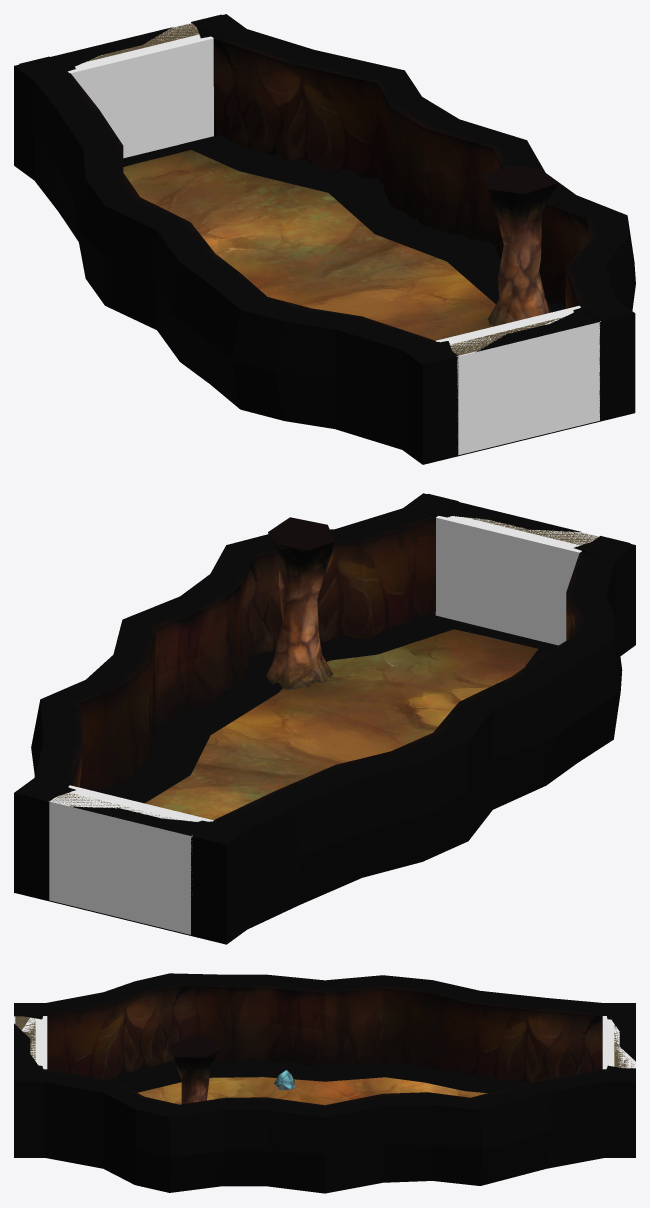
Rendered from Dungeon_011_Road_002_Item.fbx.
3 renders of one model, top to bottom at view 1: azimuth 30°, elevation 25°; view 2: azimuth 150°, elevation 25°; view 3: azimuth 270°, elevation 25°, orthographic. The views are drawn at different scales.
Parts seen in each view (by area): view 1: Dan1, Dan2, DoorWay_NavMask (1) (×2), Dan1_shadow, Dungeon_011_Object_010, Dun_011_Door_002_old (×2), Dun_011_Door_003_WarpRoom (×2); view 2: Dan1, DoorWay_NavMask (1) (×2), Dan2, Dan1_shadow, Dungeon_011_Object_010, Dun_011_Door_002_old (×2), Dun_011_Door_003_WarpRoom, Dun_011_Door_002, Dun_011_Door_002_shadow; view 3: Dan1, Dan1_shadow, Dan2, Dun_011_Door_002_old (×2), Dungeon_011_Object_010, DoorWay_NavMask (1) (×2), Dun_011_Door_003_WarpRoom (×2), Dun_011_Door_002.
Part boxes in pixels (x1=…): Dan1: x1=14, y1=14, x2=635, y2=464; Dan2: x1=123, y1=150, x2=500, y2=340; DoorWay_NavMask (1) (×2): x1=68, y1=22, x2=600, y2=455; Dan1_shadow: x1=180, y1=135, x2=565, y2=312; Dungeon_011_Object_010: x1=482, y1=166, x2=557, y2=326; Dun_011_Door_002_old (×2): x1=19, y1=14, x2=630, y2=412; Dun_011_Door_003_WarpRoom (×2): x1=85, y1=23, x2=563, y2=355; Dan1: x1=14, y1=493, x2=635, y2=944; DoorWay_NavMask (1) (×2): x1=48, y1=516, x2=599, y2=934; Dan2: x1=145, y1=629, x2=538, y2=820; Dan1_shadow: x1=93, y1=613, x2=558, y2=803; Dungeon_011_Object_010: x1=265, y1=517, x2=334, y2=689; Dun_011_Door_002_old (×2): x1=19, y1=494, x2=630, y2=934; Dun_011_Door_003_WarpRoom: x1=467, y1=517, x2=598, y2=545; Dun_011_Door_002: x1=39, y1=780, x2=239, y2=935; Dun_011_Door_002_shadow: x1=454, y1=624, x2=543, y2=648; Dan1: x1=14, y1=973, x2=635, y2=1193; Dan1_shadow: x1=110, y1=1058, x2=528, y2=1092; Dan2: x1=137, y1=1077, x2=487, y2=1104; Dun_011_Door_002_old (×2): x1=14, y1=1004, x2=635, y2=1079; Dungeon_011_Object_010: x1=170, y1=1036, x2=219, y2=1104; DoorWay_NavMask (1) (×2): x1=14, y1=1016, x2=635, y2=1069; Dun_011_Door_003_WarpRoom (×2): x1=15, y1=1016, x2=634, y2=1068; Dun_011_Door_002: x1=14, y1=1005, x2=44, y2=1079.
Size of what is drawn, in the model's own units: 8.54 by 2.96 by 15.
